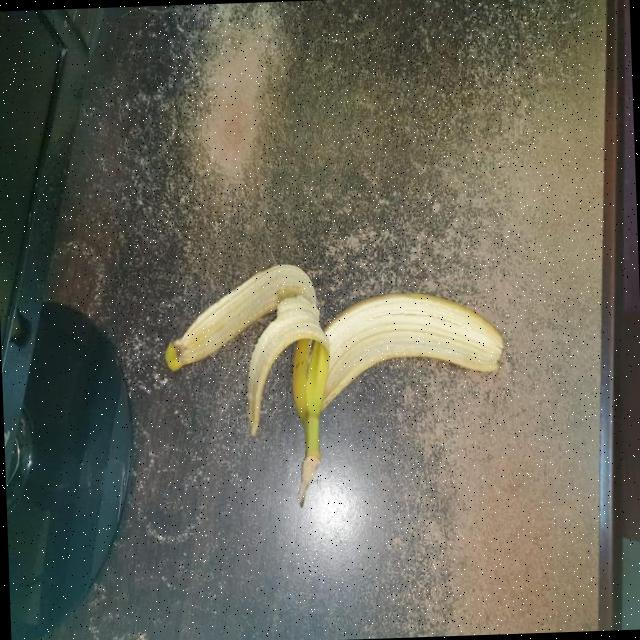banana-peel: (160, 254, 509, 512)
